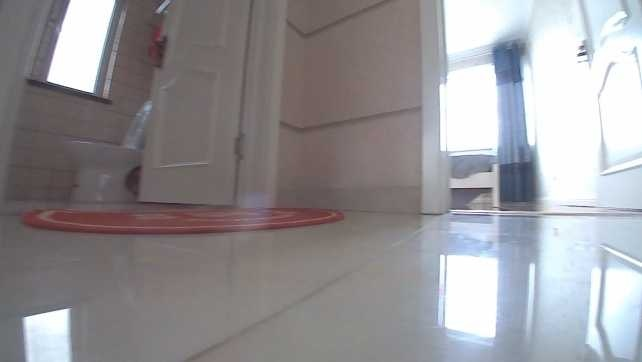blanket: (19, 200, 343, 231)
door_anno: (140, 0, 290, 207)
toilet: (62, 98, 153, 202)
